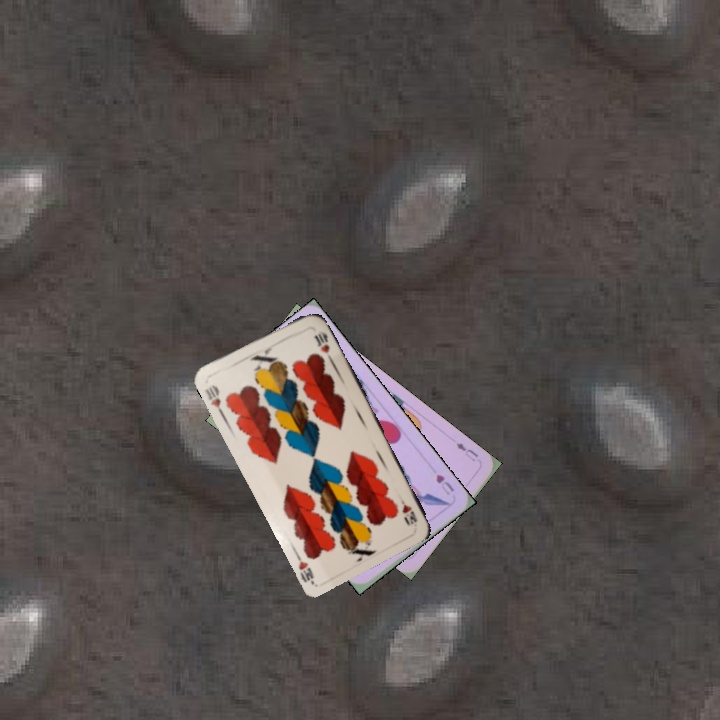EU: (452, 438, 481, 464)
H10: (393, 490, 419, 526), (201, 381, 226, 417)
HU: (432, 470, 456, 498)
